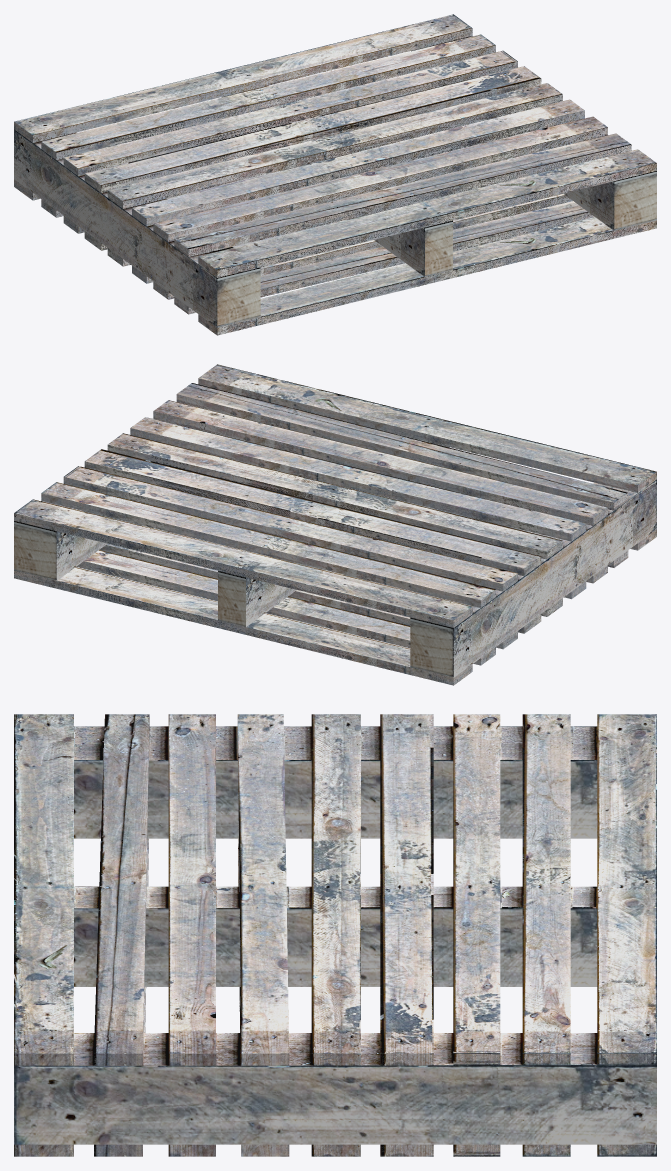
The model's file is Palette_gameready.fbx.
3 renders of one model, top to bottom at view 1: azimuth 30°, elevation 25°; view 2: azimuth 150°, elevation 25°; view 3: azimuth 270°, elevation 25°, orthographic. The views are drawn at different scales.
Visible parts, largest first — view 1: SketchUp, ID167, ID119, ID151, ID135, ID103, ID159, ID127, ID111, ID87, ID143, ID95 (+3 smaller); view 2: SketchUp, ID119, ID167, ID135, ID127, ID159, ID111, ID143, ID103, ID151, ID55, ID47 (+3 smaller); view 3: ID15, SketchUp, ID119, ID167, ID23, ID135, ID151, ID127, ID111, ID143, ID159, ID103 (+7 smaller).
Part boxes in pixels (box(x1,y1,x2,y2)): SketchUp: box(14, 129, 260, 327); ID167: box(198, 149, 656, 277); ID119: box(14, 14, 472, 142); ID151: box(107, 83, 562, 208); ID135: box(84, 66, 541, 193); ID103: box(174, 133, 631, 256); ID159: box(132, 99, 584, 226); ID127: box(41, 34, 495, 160); ID111: box(153, 116, 607, 242); ID87: box(198, 217, 656, 335); ID143: box(63, 50, 517, 176); ID95: box(174, 201, 594, 314); SketchUp: box(410, 479, 656, 677); ID119: box(14, 499, 472, 627); ID167: box(198, 364, 656, 492); ID135: box(84, 449, 541, 576); ID127: box(41, 482, 495, 607); ID159: box(130, 417, 586, 541); ID111: box(153, 400, 607, 525); ID143: box(63, 466, 517, 591); ID103: box(176, 383, 628, 510); ID151: box(107, 433, 562, 559); ID55: box(14, 567, 472, 685); ID47: box(76, 550, 495, 665); ID15: box(14, 1033, 656, 1144); SketchUp: box(74, 726, 597, 838); ID119: box(597, 714, 656, 1065); ID167: box(14, 714, 73, 1065); ID23: box(74, 886, 597, 986); ID135: box(380, 714, 433, 1065); ID151: box(311, 714, 360, 1065); ID127: box(522, 714, 570, 1065); ID111: box(168, 714, 215, 1065); ID143: box(453, 714, 500, 1065); ID159: box(237, 714, 289, 1065); ID103: box(94, 714, 149, 1065).
Size of the model in its own units: 47.24 by 37.83 by 6.69.
